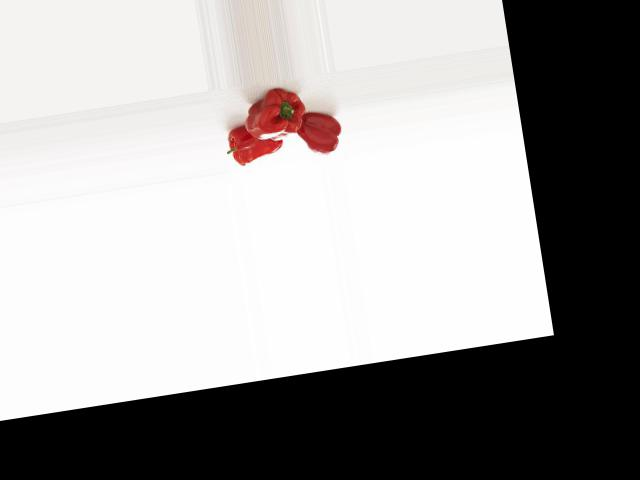bell_pepper: (296, 106, 347, 157)
